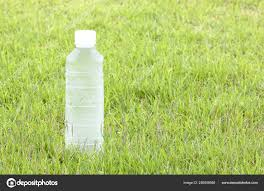plastic_bottle: (63, 27, 106, 150)
